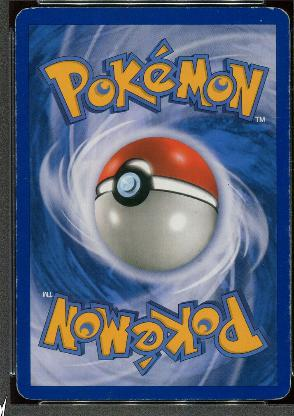Card: (12, 6, 292, 404)
Corner Wear: (14, 375, 37, 399), (263, 6, 290, 26), (266, 378, 290, 400), (13, 6, 37, 23)
Edge Wear: (287, 154, 290, 342), (14, 108, 17, 256), (287, 66, 290, 152), (15, 274, 18, 358), (13, 34, 16, 101), (231, 6, 273, 10)
Scratch: (258, 18, 261, 22)
